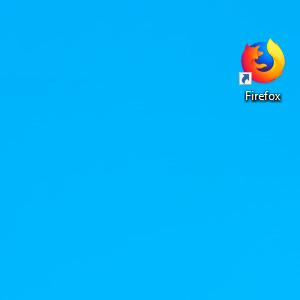firefox: (238, 36, 286, 86)
